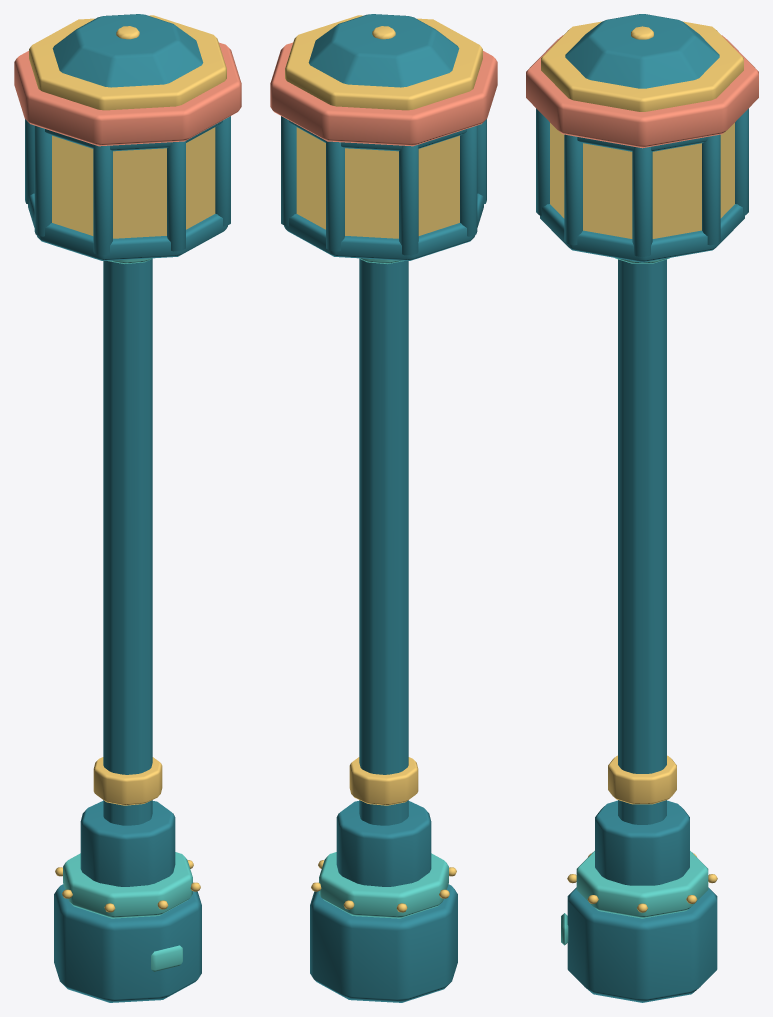
File: asset.glb
The picture shows the model from 3 angles, left to right: view 1: azimuth 30°, elevation 25°; view 2: azimuth 150°, elevation 25°; view 3: azimuth 270°, elevation 25°; orthographic projection.
Visible parts, largest first — view 1: Cheerful low-poly outdoor lamp post; view 2: Cheerful low-poly outdoor lamp post; view 3: Cheerful low-poly outdoor lamp post.
Part boxes in pixels (x1,y1,x2,y2): Cheerful low-poly outdoor lamp post: (14, 14, 241, 1002); Cheerful low-poly outdoor lamp post: (270, 14, 497, 1002); Cheerful low-poly outdoor lamp post: (526, 14, 758, 1002).
Size of the model in its own units: 0.5708 by 2.55 by 0.5708.
5 materials, 1 textured.
